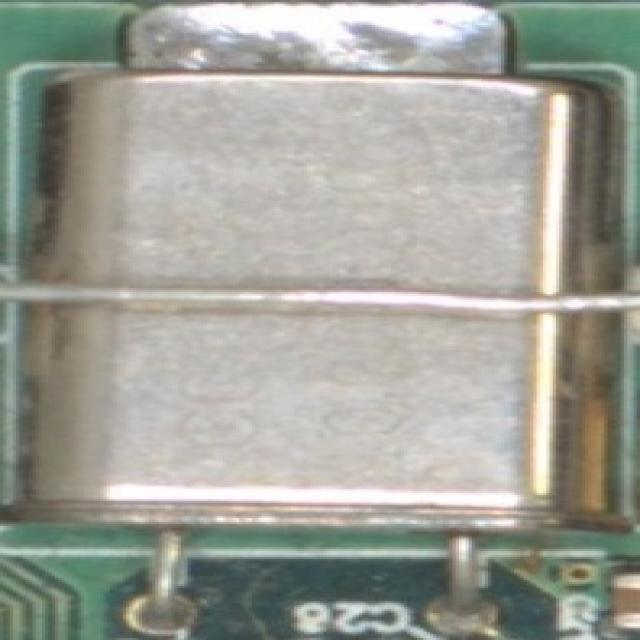clock Q1: (25, 36, 629, 604)
